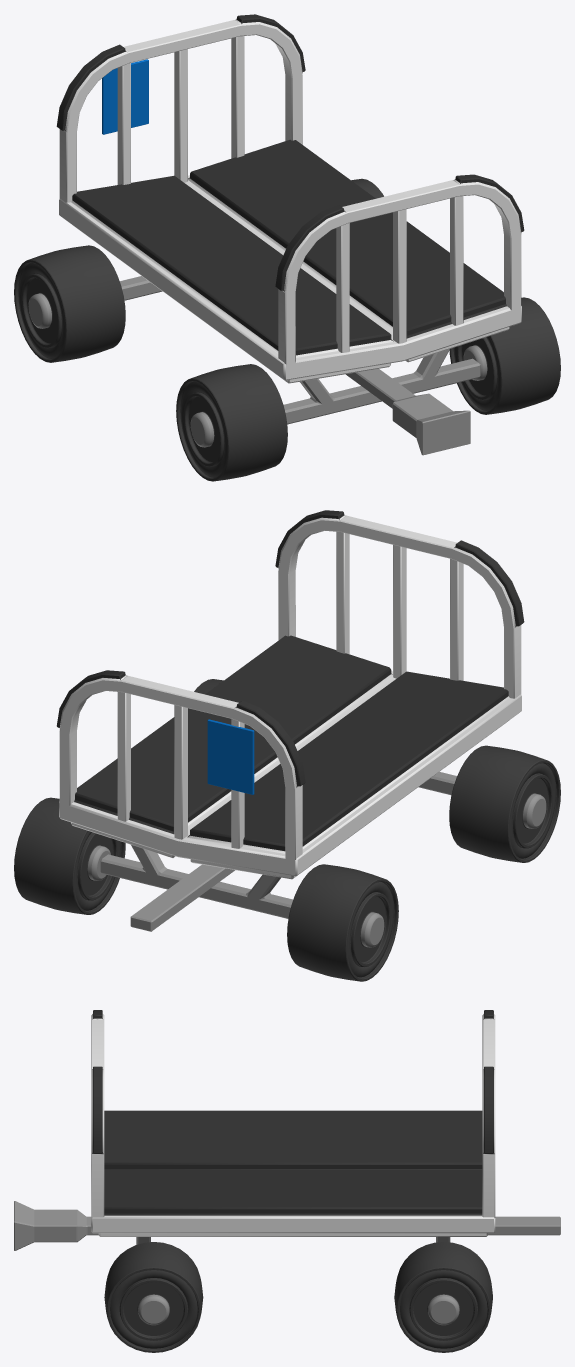
The model's file is vagoncinoV2.fbx.
3 views of the same model, one above another, from view 1: azimuth 30°, elevation 25°; view 2: azimuth 150°, elevation 25°; view 3: azimuth 270°, elevation 25° (orthographic). The views are drawn at different scales.
Parts seen in each view (by area): view 1: Cube.049; view 2: Cube.049; view 3: Cube.049.
Boxes of the visible parts, <box> form: Cube.049: <box>14,14,560,481</box>; Cube.049: <box>14,510,560,981</box>; Cube.049: <box>14,1010,560,1352</box>.
Size of the model in its own units: 194 by 147 by 302.
